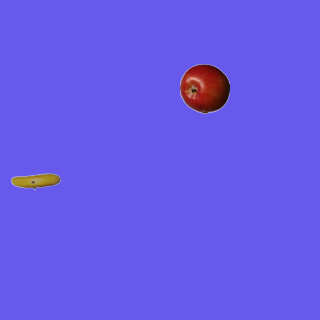Apple Braeburn: (179, 63, 229, 113)
Banana: (10, 156, 60, 206)
